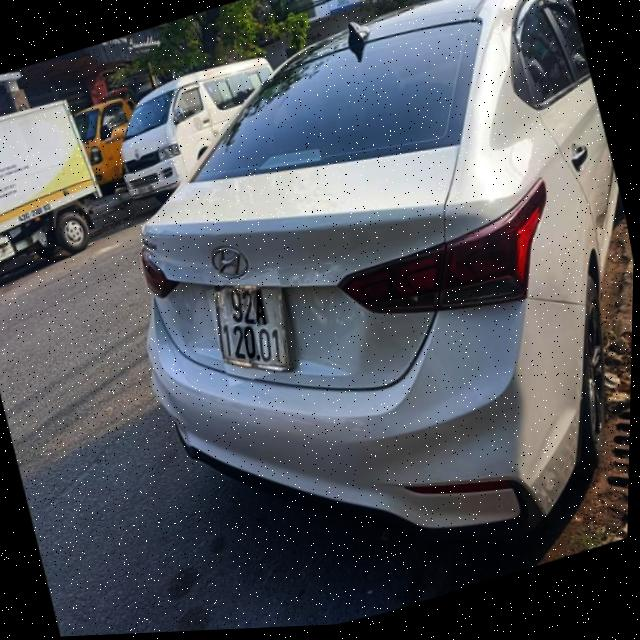car: (91, 0, 640, 600), (98, 49, 296, 220), (0, 80, 125, 298)
plate: (199, 265, 306, 391)
